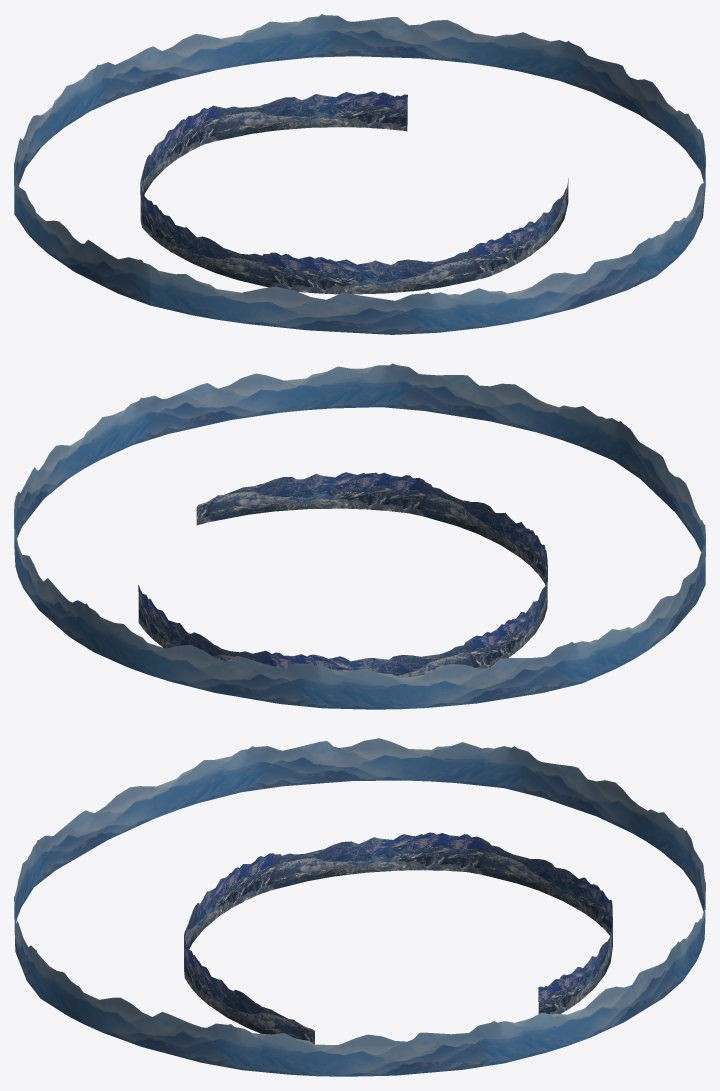
File: Mexico_track_terrain_wall.dae
3 views of the same model, one above another, from view 1: azimuth 30°, elevation 25°; view 2: azimuth 150°, elevation 25°; view 3: azimuth 270°, elevation 25° (orthographic). The views are drawn at different scales.
Visible parts, largest first — view 1: terrain_Wall_02, terrain_Wall_01; view 2: terrain_Wall_02, terrain_Wall_01; view 3: terrain_Wall_02, terrain_Wall_01.
Boxes of the visible parts, x1=… form: terrain_Wall_02: x1=14, y1=14, x2=705, y2=334; terrain_Wall_01: x1=140, y1=91, x2=568, y2=294; terrain_Wall_02: x1=14, y1=363, x2=705, y2=709; terrain_Wall_01: x1=138, y1=472, x2=547, y2=677; terrain_Wall_02: x1=14, y1=738, x2=705, y2=1076; terrain_Wall_01: x1=184, y1=832, x2=612, y2=1043.
Bounding box in the file's own units: 460 × 454 × 54.04.
Materials: 1 (1 with a texture image).
